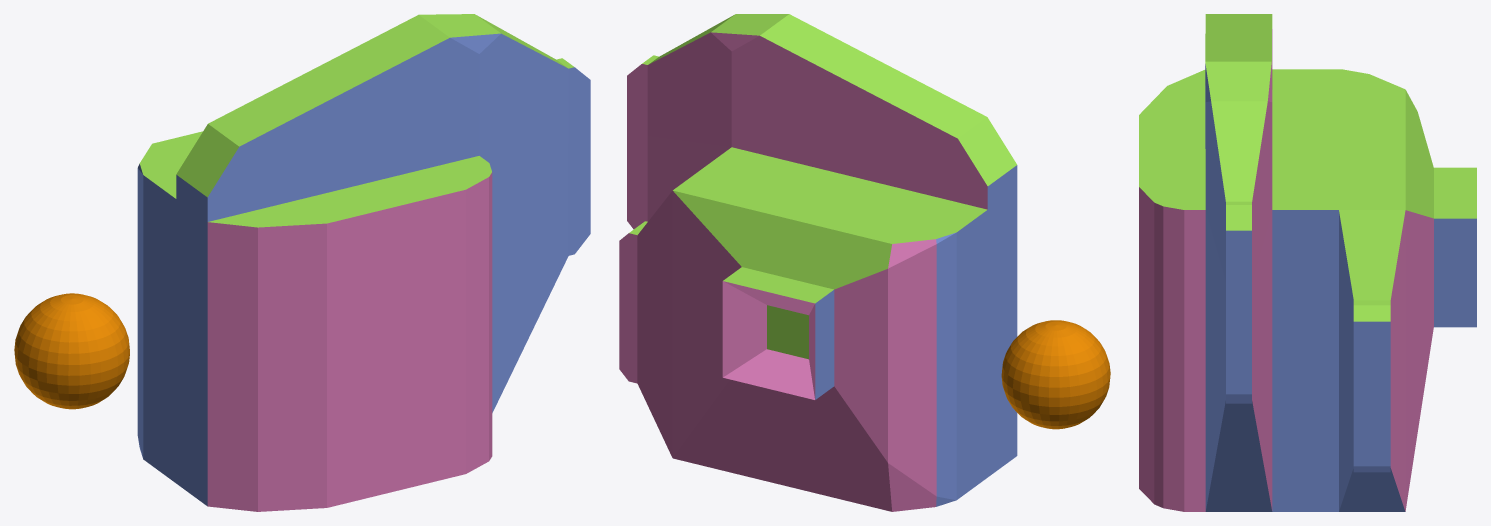
The model's file is firsttry.glb.
The picture shows the model from 3 angles, left to right: view 1: azimuth 30°, elevation 25°; view 2: azimuth 150°, elevation 25°; view 3: azimuth 270°, elevation 25°; orthographic projection. The views are drawn at different scales.
Visible parts, largest first — view 1: Cube, Sphere; view 2: Cube, Sphere; view 3: Cube.
Boxes of the visible parts, box(x1,y1,x2,y2) form: Cube: box(137, 14, 590, 511); Sphere: box(14, 293, 129, 409); Cube: box(619, 14, 1017, 511); Sphere: box(1001, 320, 1110, 429); Cube: box(1139, 14, 1476, 511).
Bounding box in the file's own units: 3.91 × 2.88 × 2.03.
